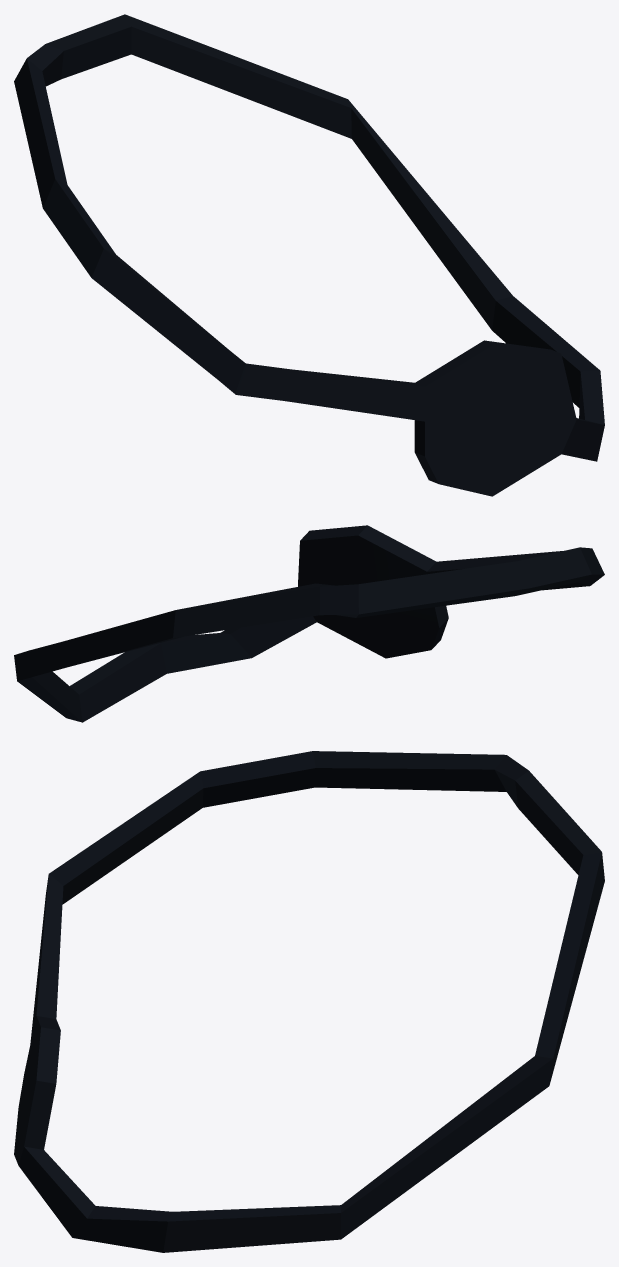
Rendered from eyepatchleft.fbx.
The picture shows the model from 3 angles, top to bottom: view 1: azimuth 30°, elevation 25°; view 2: azimuth 150°, elevation 25°; view 3: azimuth 270°, elevation 25°; orthographic projection. The views are drawn at different scales.
Parts seen in each view (by area): view 1: eyepatchleft; view 2: eyepatchleft; view 3: eyepatchleft.
Boxes of the visible parts, box(x1,y1,x2,y2) form: eyepatchleft: box(14, 14, 604, 496); eyepatchleft: box(14, 525, 604, 722); eyepatchleft: box(14, 751, 604, 1252).
Bounding box in the file's own units: 24 × 15.11 × 25.48.
